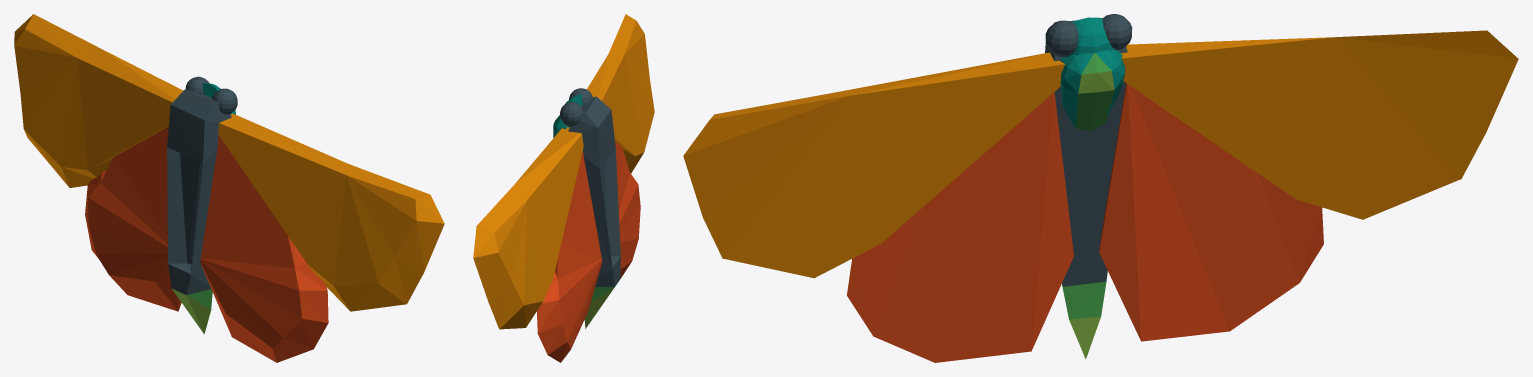
The picture shows the model from 3 angles, left to right: view 1: azimuth 30°, elevation 25°; view 2: azimuth 150°, elevation 25°; view 3: azimuth 270°, elevation 25°; orthographic projection. The views are drawn at different scales.
Parts seen in each view (by area): view 1: node_MeshObject-526316544-PolyPaper17; view 2: node_MeshObject-526316544-PolyPaper17; view 3: node_MeshObject-526316544-PolyPaper17.
Boxes of the visible parts, x1=… form: node_MeshObject-526316544-PolyPaper17: x1=14, y1=14, x2=444, y2=362; node_MeshObject-526316544-PolyPaper17: x1=473, y1=14, x2=654, y2=362; node_MeshObject-526316544-PolyPaper17: x1=683, y1=14, x2=1518, y2=362.
Size of the model in its own units: 1.81 by 2.79 by 6.08.
